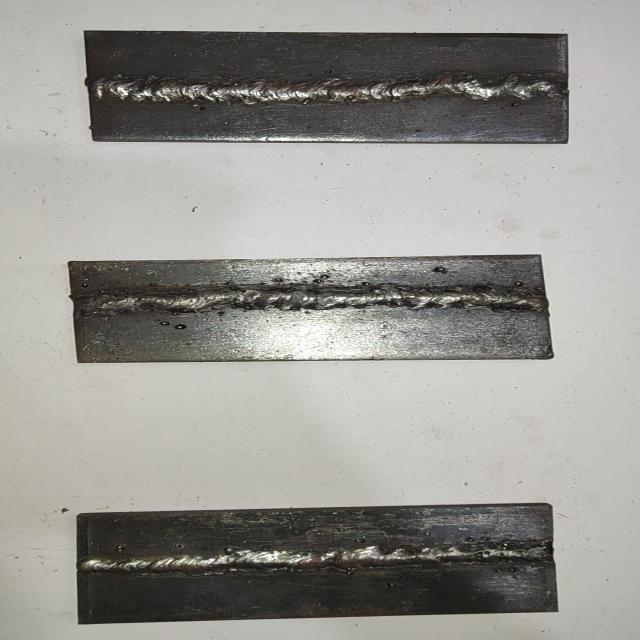Defect: (473, 536, 554, 578), (451, 72, 565, 100)
Welding Line: (77, 288, 547, 318), (84, 544, 548, 574), (90, 74, 564, 101)
Workpiece: (78, 500, 560, 625), (79, 27, 574, 146), (63, 255, 556, 362)
